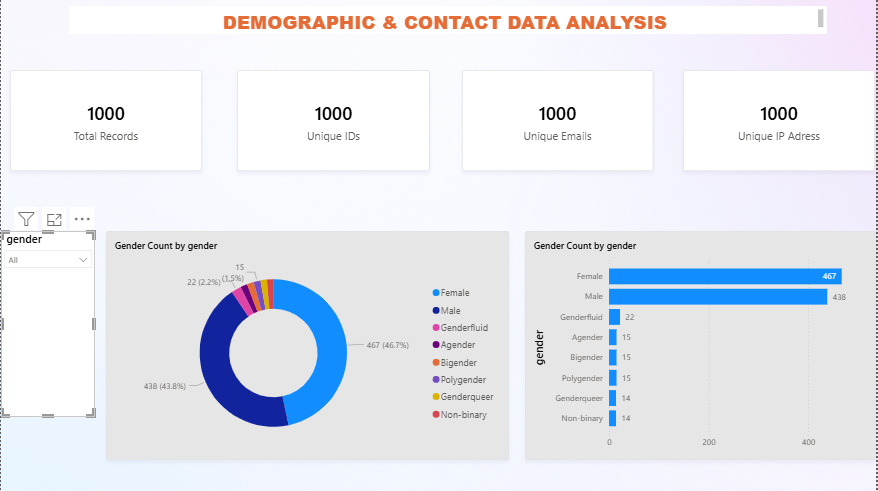

This screenshot's page, from the dashboard's own definition file:
{"tool":"powerbi","page":{"name":"Overview","canvas":[1280,720],"ordinal":0},"visuals":[{"type":"card","fields":{"Values":["clean data.Total Records"]},"box":[13.2,103.9,281,147.8],"z":0},{"type":"card","fields":{"Values":["clean data.Unique IDs"]},"box":[345.4,103.9,282.4,147.8],"z":1},{"type":"card","fields":{"Values":["clean data.Unique Emails"]},"box":[674.6,103.9,279.5,147.8],"z":2},{"type":"card","fields":{"Values":["clean data.Unique IP Adress"]},"box":[998,103.9,281,147.8],"z":3},{"type":"donutChart","fields":{"Category":["clean data.gender"],"Y":["clean data.Gender Count"]},"box":[153.7,339.5,589.8,335.1],"z":4},{"type":"clusteredBarChart","fields":{"Category":["clean data.gender"],"Y":["clean data.Gender Count"]},"box":[766.8,339.5,513.7,335.1],"z":5},{"type":"slicer","fields":{"Values":["clean data.gender"]},"box":[0,339.5,137.6,272.2],"z":6},{"type":"textbox","box":[99.5,10.2,1109.3,41],"z":7}]}

Visuals, with their boxes in screenshot pixels (x1, y1, x2, y2), scaled from the page's 1280x720 canvas onto the 878x491 screenshot:
card - clean data.Total Records: [left=9, top=71, right=202, bottom=172]
card - clean data.Unique IDs: [left=237, top=71, right=431, bottom=172]
card - clean data.Unique Emails: [left=463, top=71, right=654, bottom=172]
card - clean data.Unique IP Adress: [left=685, top=71, right=877, bottom=172]
donutChart - clean data.gender x clean data.Gender Count: [left=105, top=232, right=510, bottom=460]
clusteredBarChart - clean data.gender x clean data.Gender Count: [left=526, top=232, right=877, bottom=460]
slicer - clean data.gender: [left=0, top=232, right=94, bottom=417]
textbox: [left=68, top=7, right=829, bottom=35]
